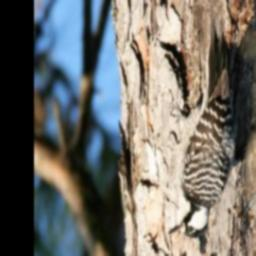Woodpecker: (167, 20, 236, 239)
